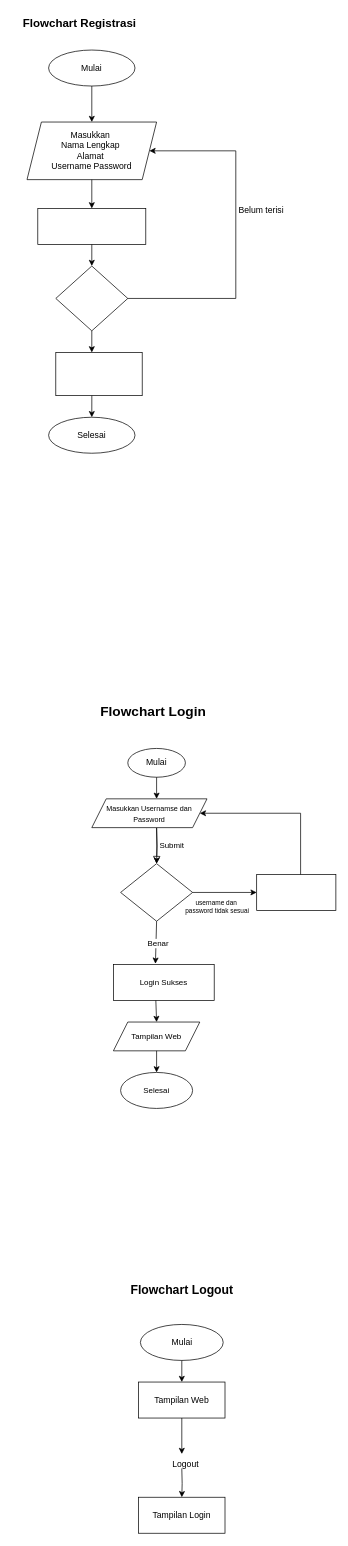
Image size: 348x1546. Some labels were removed from this diagram. The shapes that lost their labels are listed below. From the top down, each one's centre as x and y in pixels, then its label:
At pixel 91 226: "Proses simpan registrasi".
At pixel 91 298: "Data sudah/belum tersimpan".
At pixel 98 374: "Data Berhasil Disimpan".
At pixel 156 892: "Validasi Username Dan Password".
At pixel 296 892: "Login gagal".
